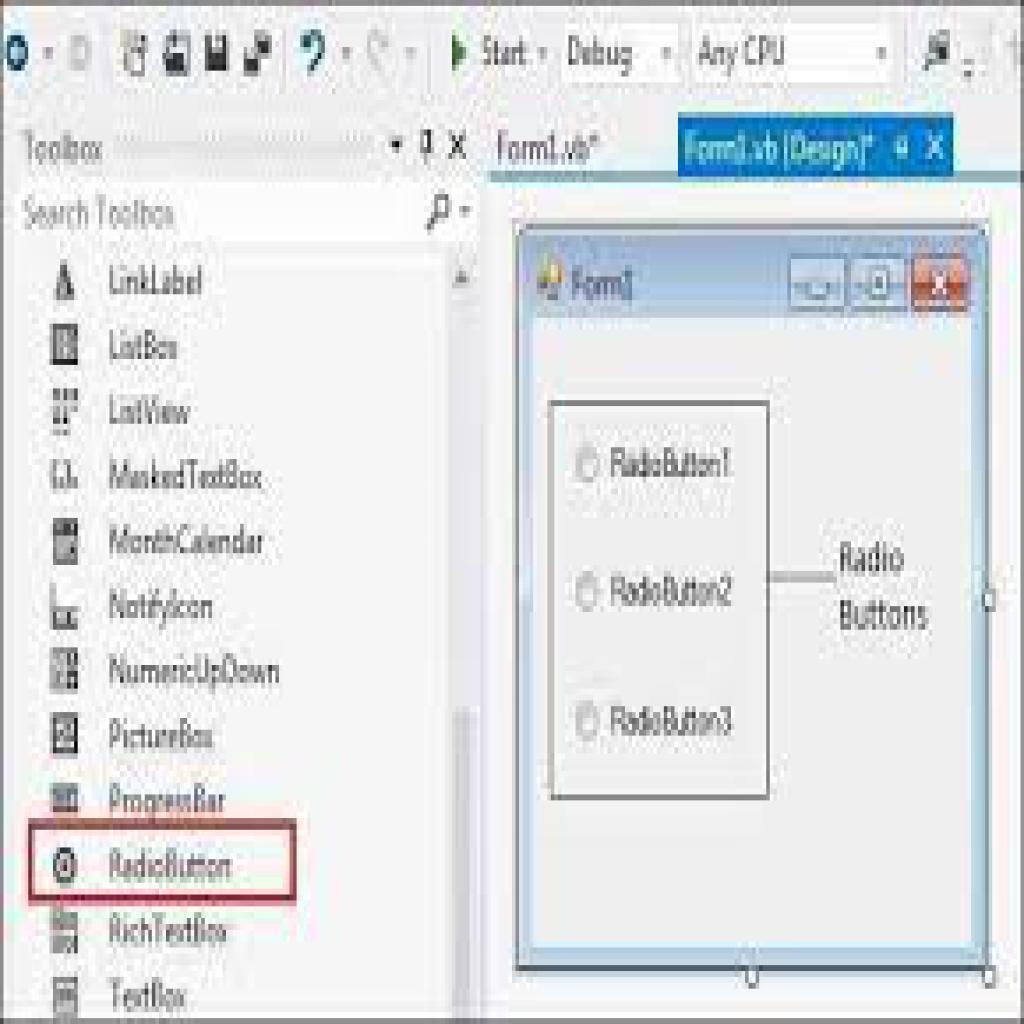button: (678, 111, 956, 181)
dropdown: (691, 22, 896, 84), (564, 22, 683, 86)
icon: (911, 255, 974, 311), (851, 258, 906, 310), (794, 258, 847, 310), (157, 24, 199, 85), (45, 581, 87, 639), (357, 24, 399, 81), (47, 515, 88, 572), (48, 971, 90, 1024), (241, 27, 277, 84), (47, 708, 84, 762), (48, 384, 84, 439), (47, 646, 84, 698), (420, 187, 456, 240), (47, 904, 80, 961), (294, 30, 334, 77), (122, 30, 156, 84), (201, 28, 234, 82), (48, 257, 84, 306), (444, 30, 479, 80), (51, 321, 84, 371), (922, 25, 956, 73), (47, 455, 86, 495), (47, 778, 85, 817), (5, 32, 37, 75), (414, 125, 441, 168), (447, 128, 470, 165)
radio: (572, 427, 605, 496), (571, 567, 604, 623), (573, 692, 602, 754), (48, 841, 84, 888)
